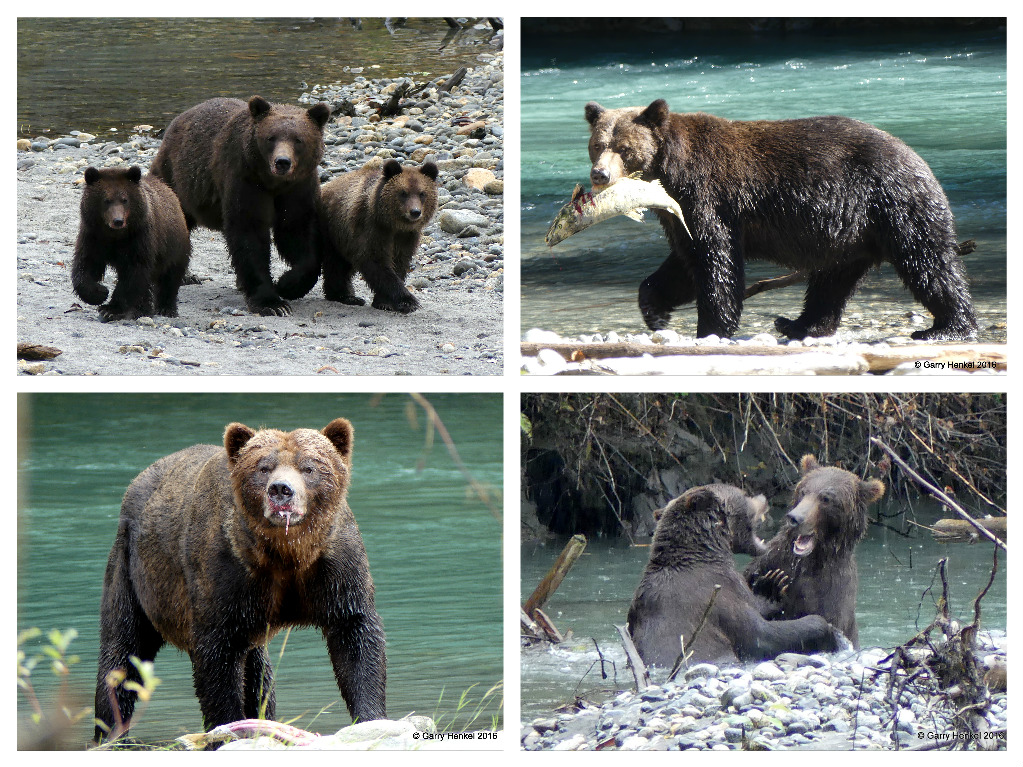bear: (219, 417, 358, 537), (783, 448, 891, 563), (648, 479, 775, 557), (577, 97, 673, 191), (242, 95, 334, 183), (80, 165, 150, 237), (375, 158, 442, 228)
